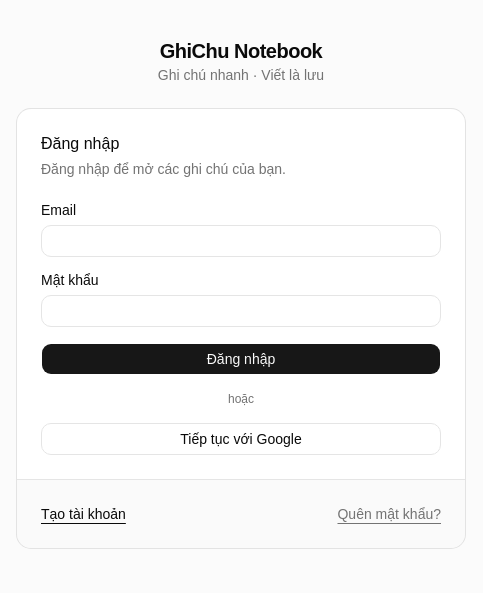
Test: LoginPage › shows a Vietnamese message when credentials are rejected
This screenshot has width=483, height=593.
Type "user@example.com" into the field labelled "Email" at (241, 240), box [41,224,441,256]
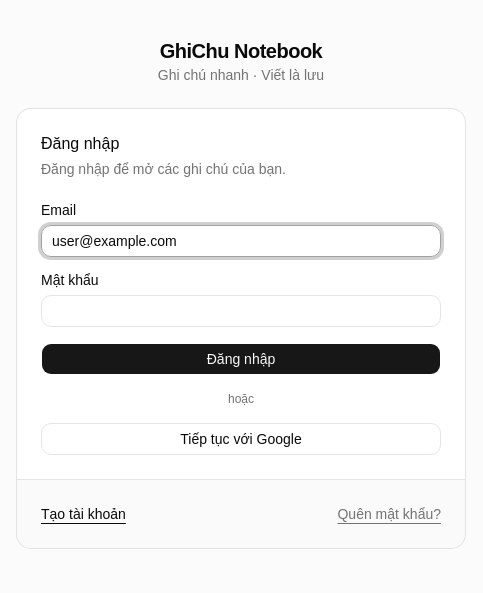
Type "secret123" into the password field labelled "Mật khẩu" at (241, 310), box [41,294,441,326]
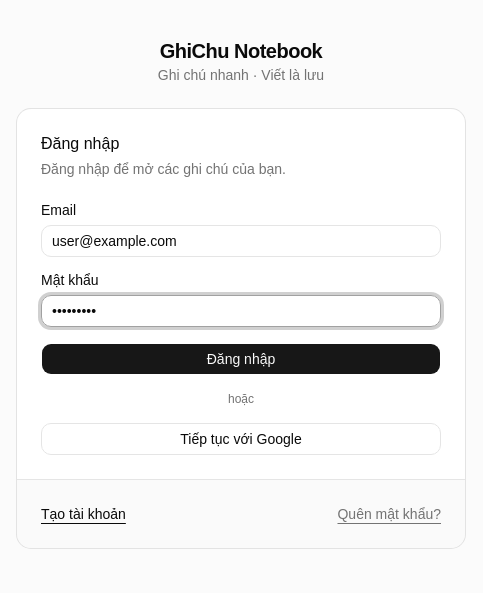
Click the button "Đăng nhập" at (241, 358), box [41,342,441,374]
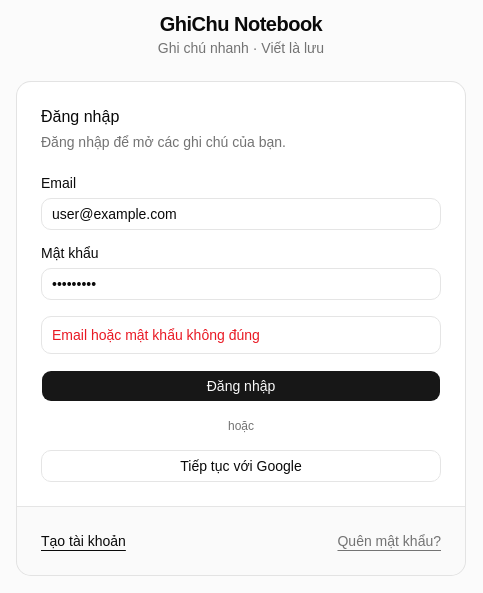
Check: the message reads "Email hoặc mật khẩu không đúng", box [52,326,260,342]
